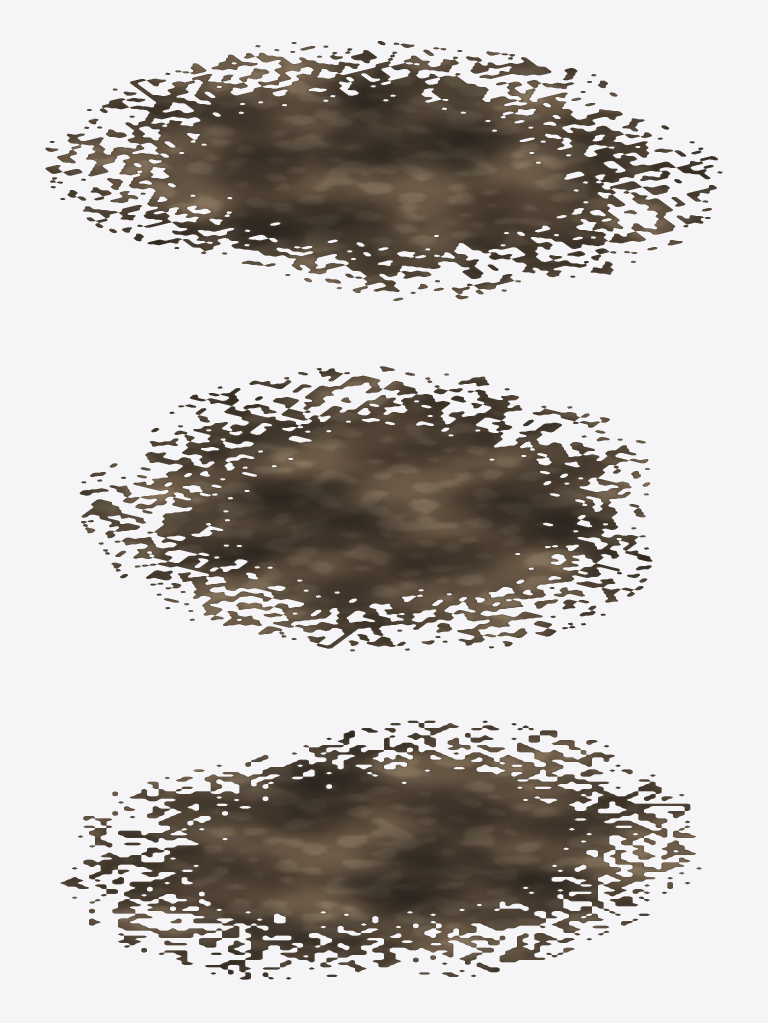
Rendered from decal_dirt_03.glb.
3 views of the same model, one above another, from view 1: azimuth 30°, elevation 25°; view 2: azimuth 150°, elevation 25°; view 3: azimuth 270°, elevation 25° (orthographic).
Parts seen in each view (by area): view 1: decal_dirt_03; view 2: decal_dirt_03; view 3: decal_dirt_03.
Part boxes in pixels (x1,y1,x2,y2): decal_dirt_03: (45, 41, 722, 300); decal_dirt_03: (79, 366, 652, 651); decal_dirt_03: (60, 720, 701, 979).
Bounding box in the file's own units: 1.5 × 0 × 1.5.
1 material, 1 textured.
